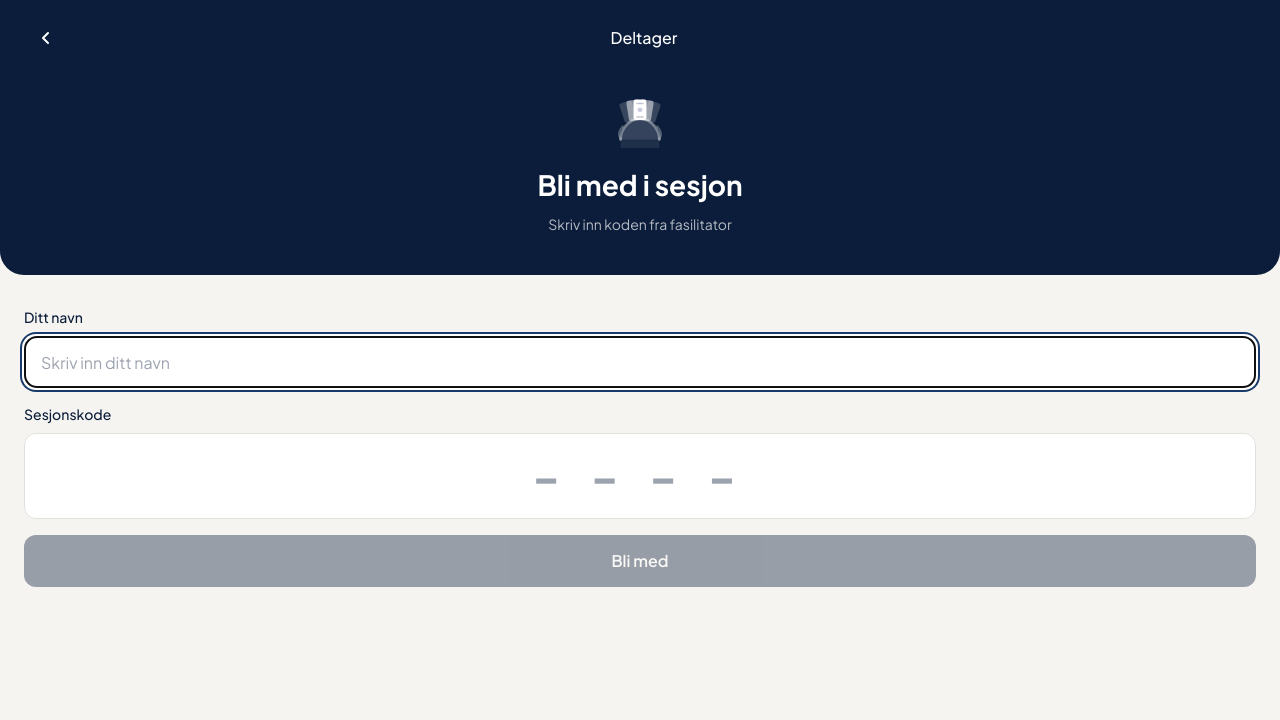
Test case: DeltagerJoinPage › viser generisk konflikt når nettleseren allerede er fasilitator
Type "Ola" into the field labelled "Ditt navn" at {"x": 640, "y": 362}, box [24,336,1256,388]
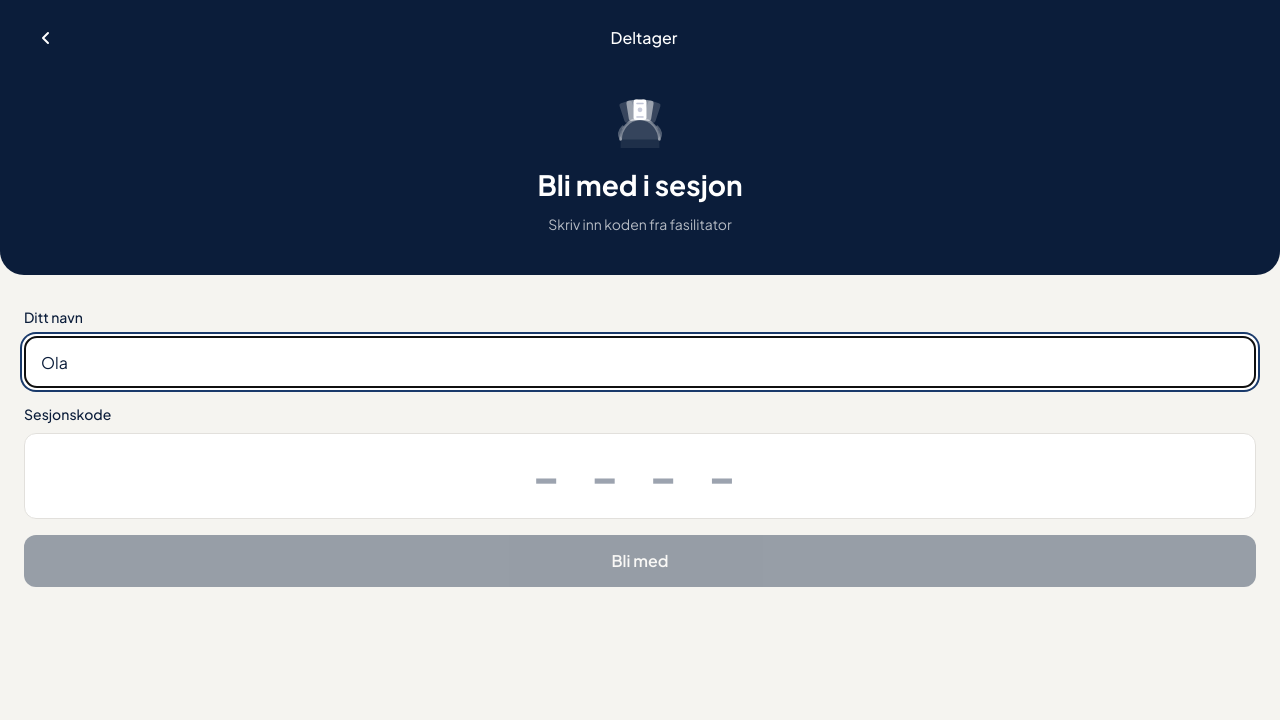
Type "ABCD" into the field labelled "Sesjonskode" at {"x": 640, "y": 476}, box [24,433,1256,519]
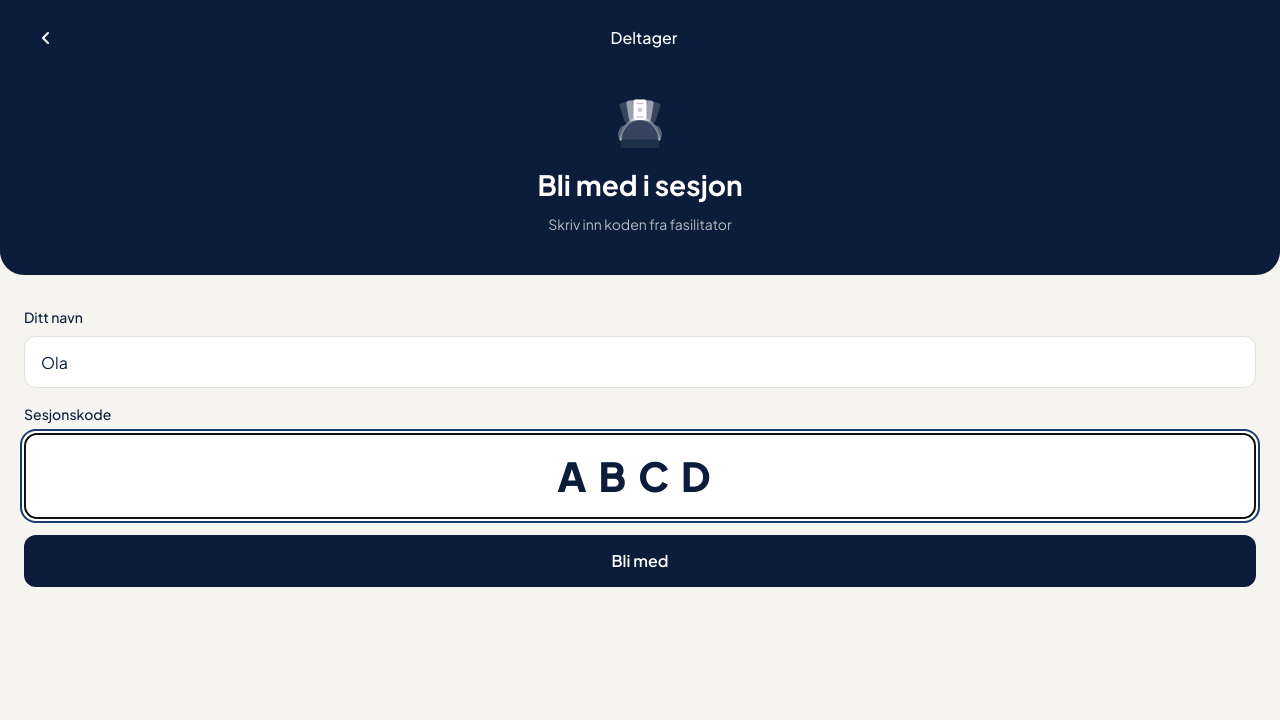
Click the button "Bli med" at {"x": 640, "y": 561}, box [24,535,1256,587]
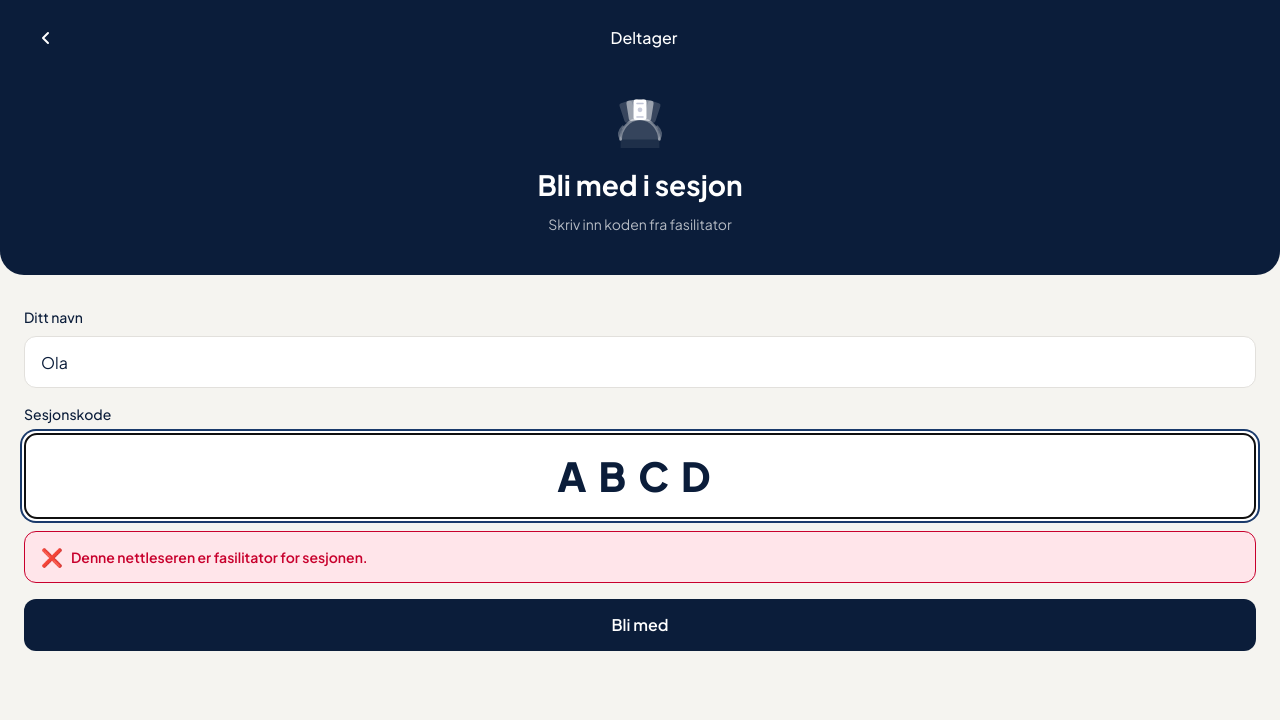
Result: the message shows "Denne nettleseren er fasilitator" at [71,548,368,566]
